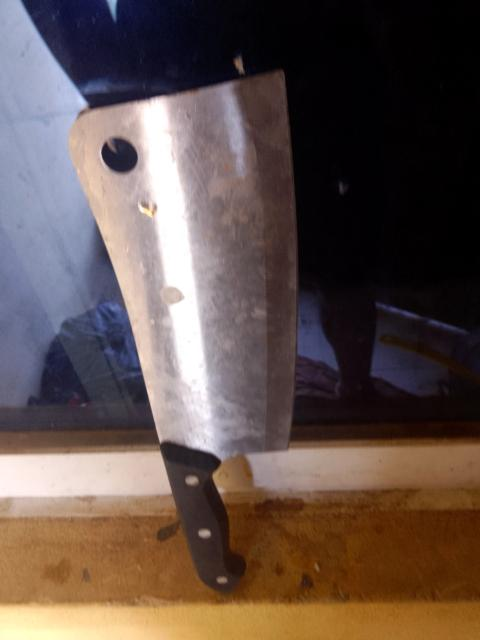Knife: (70, 72, 297, 592)
